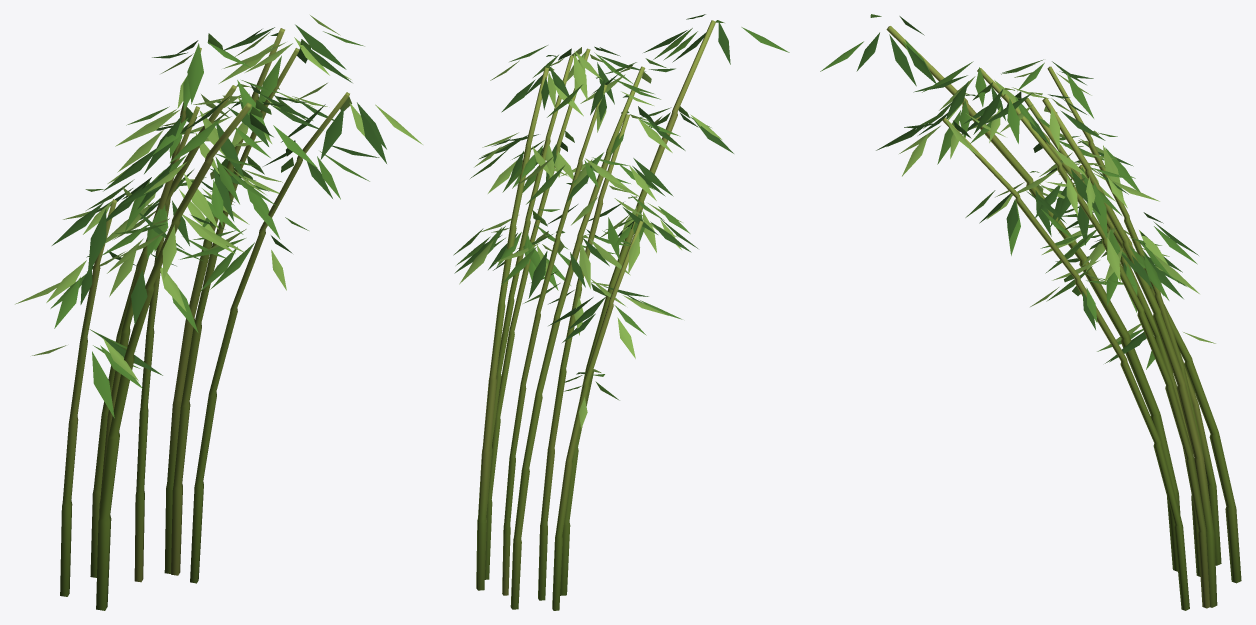
Rendered from prop.bamboo_arch.glb.
The picture shows the model from 3 angles, left to right: view 1: azimuth 30°, elevation 25°; view 2: azimuth 150°, elevation 25°; view 3: azimuth 270°, elevation 25°; orthographic projection. The views are drawn at different scales.
Visible parts, largest first — view 1: bamboo_arch; view 2: bamboo_arch; view 3: bamboo_arch.
Part boxes in pixels (bbox=[...]): bamboo_arch: bbox=[15, 15, 422, 610]; bamboo_arch: bbox=[453, 14, 789, 610]; bamboo_arch: bbox=[820, 14, 1241, 610].
Size of the model in its own units: 5.49 by 11.45 by 8.13.
